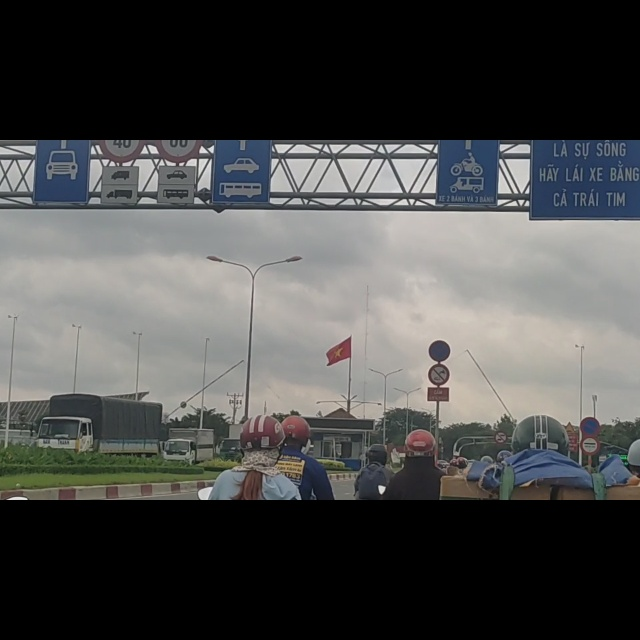bien_chi_dan: (427, 356, 451, 395), (427, 397, 450, 437), (580, 526, 601, 558), (580, 493, 600, 525), (565, 500, 577, 524), (495, 518, 507, 539)
